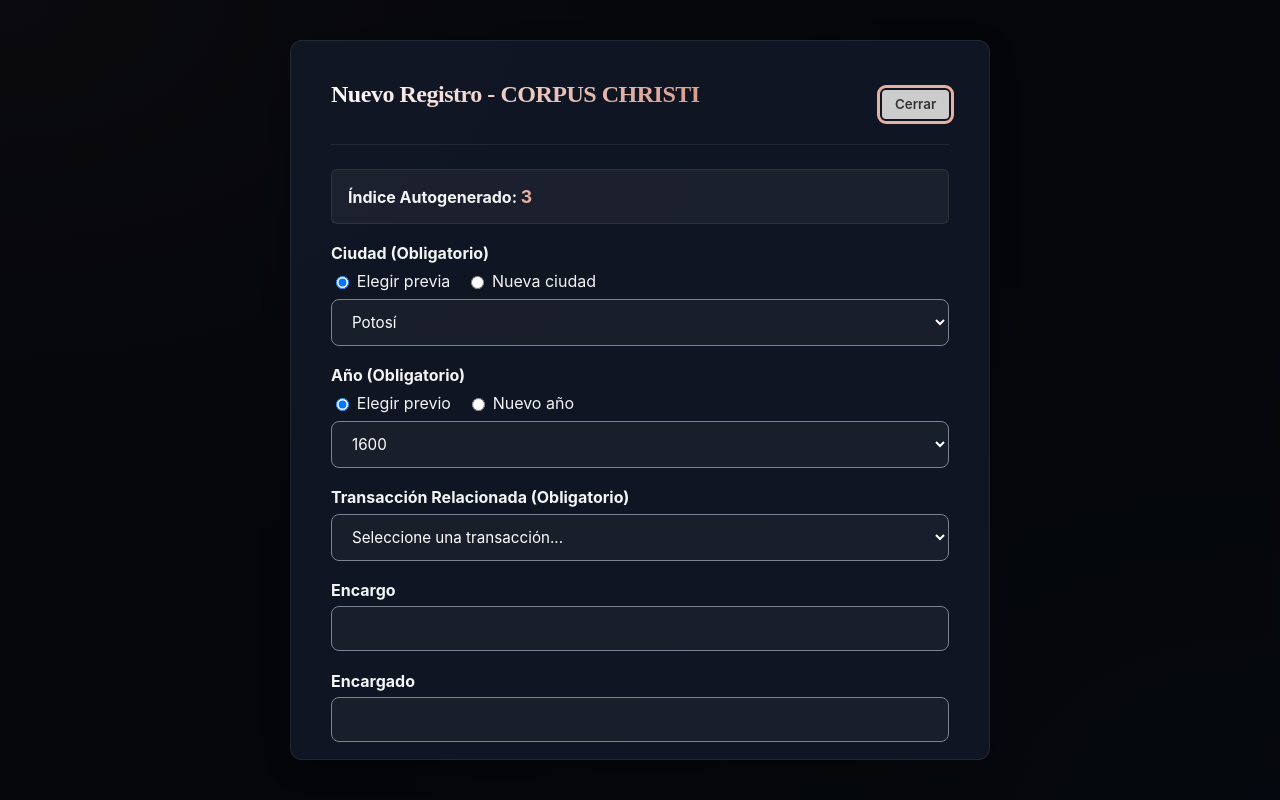
Test: formularios de alta etiquetados › corpus: los grupos Ciudad y Año tienen radios con name propio y control con nombre de grupo
Expected: the element "Ciudad (Obligatorio)" is shown, x1=331 y1=243 x2=949 y2=346
Expected: the dropdown labelled "Ciudad (Obligatorio)" is shown, x1=331 y1=299 x2=949 y2=346
Click the radio button labelled "Nueva ciudad" at (478, 283), box x1=471 y1=276 x2=484 y2=289
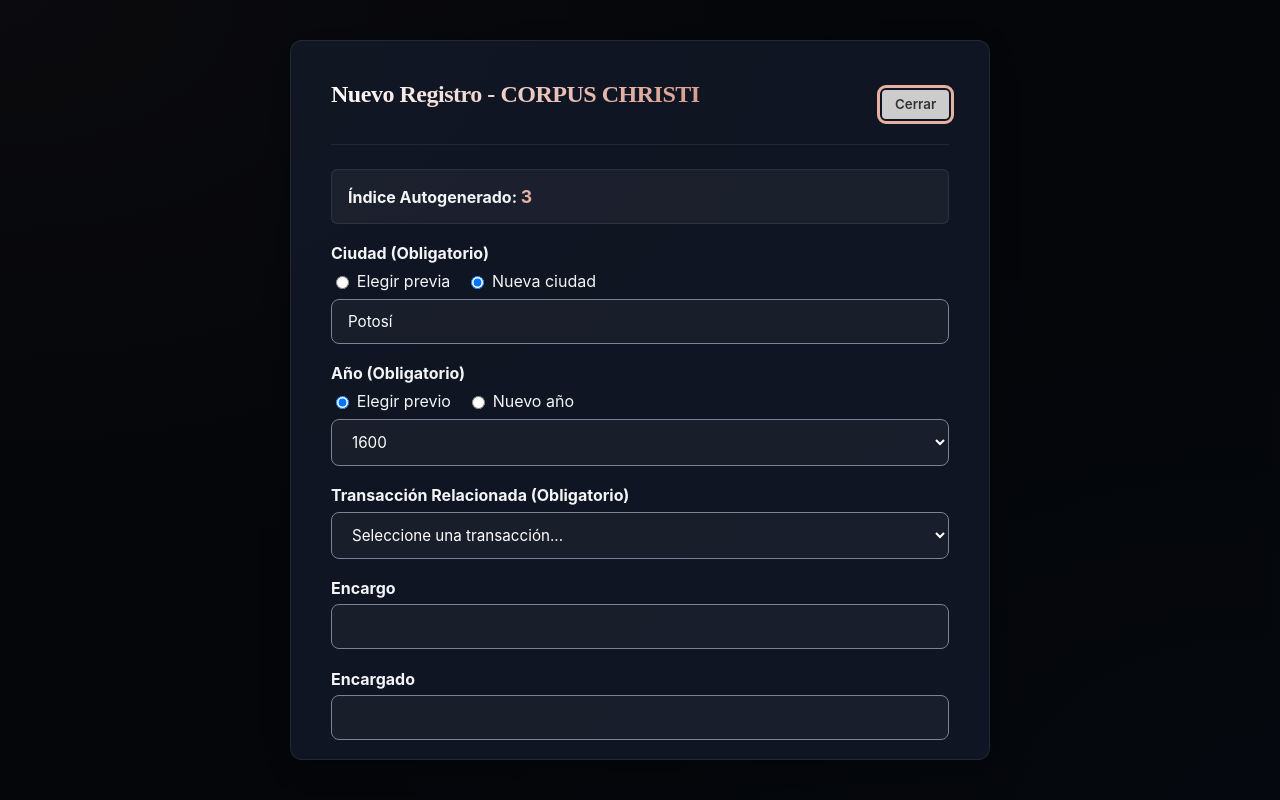
Now the field labelled "Ciudad (Obligatorio)" is shown, box x1=331 y1=299 x2=949 y2=344
